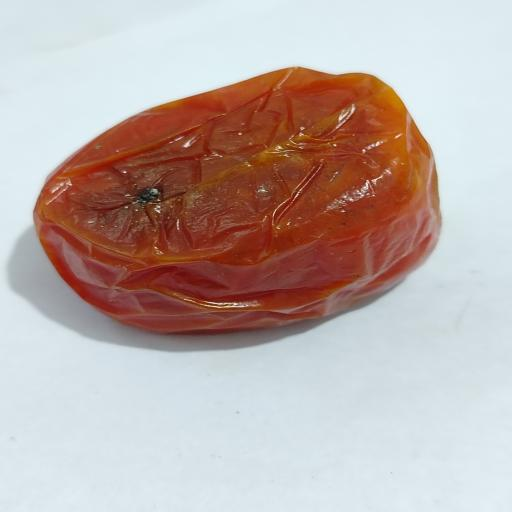spoiled: (34, 68, 440, 333)
